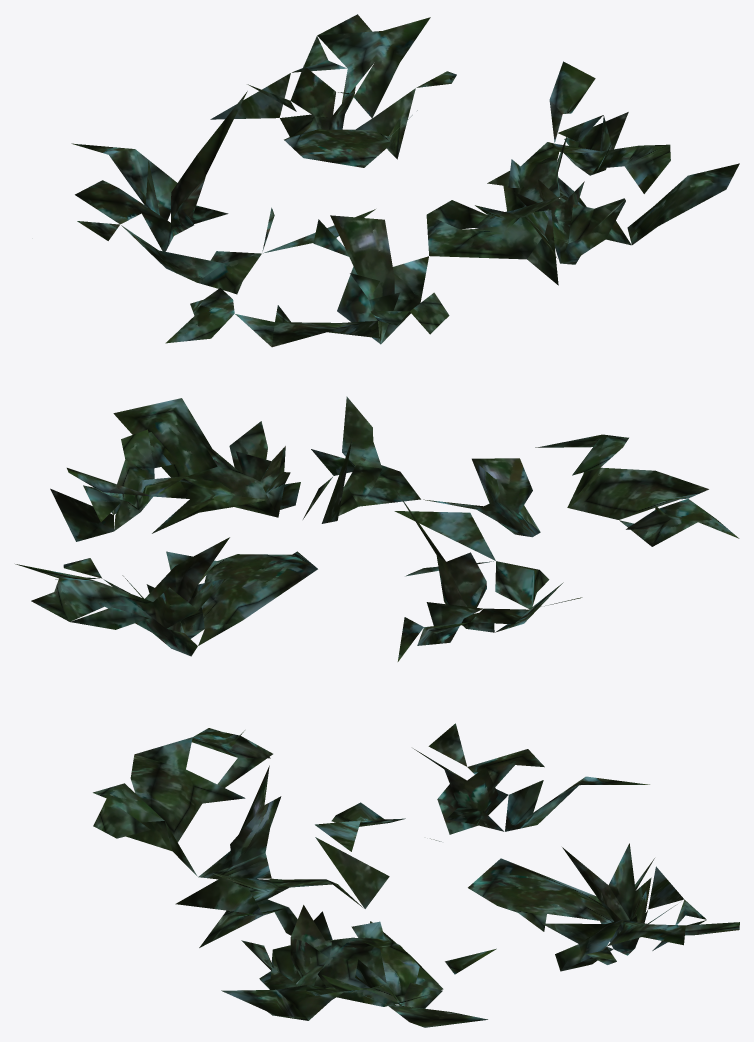
File: swamp-bush-2.glb
The picture shows the model from 3 angles, top to bottom: view 1: azimuth 30°, elevation 25°; view 2: azimuth 150°, elevation 25°; view 3: azimuth 270°, elevation 25°; orthographic projection. The views are drawn at different scales.
Visible parts, largest first — view 1: geometry_0; view 2: geometry_0; view 3: geometry_0.
Boxes of the visible parts, x1=… form: geometry_0: x1=71, y1=14, x2=739, y2=347; geometry_0: x1=15, y1=396, x2=739, y2=661; geometry_0: x1=93, y1=723, x2=739, y2=1027.
Size of the model in its own units: 0.7021 by 0.1602 by 0.6868.
1 material, 1 textured.
